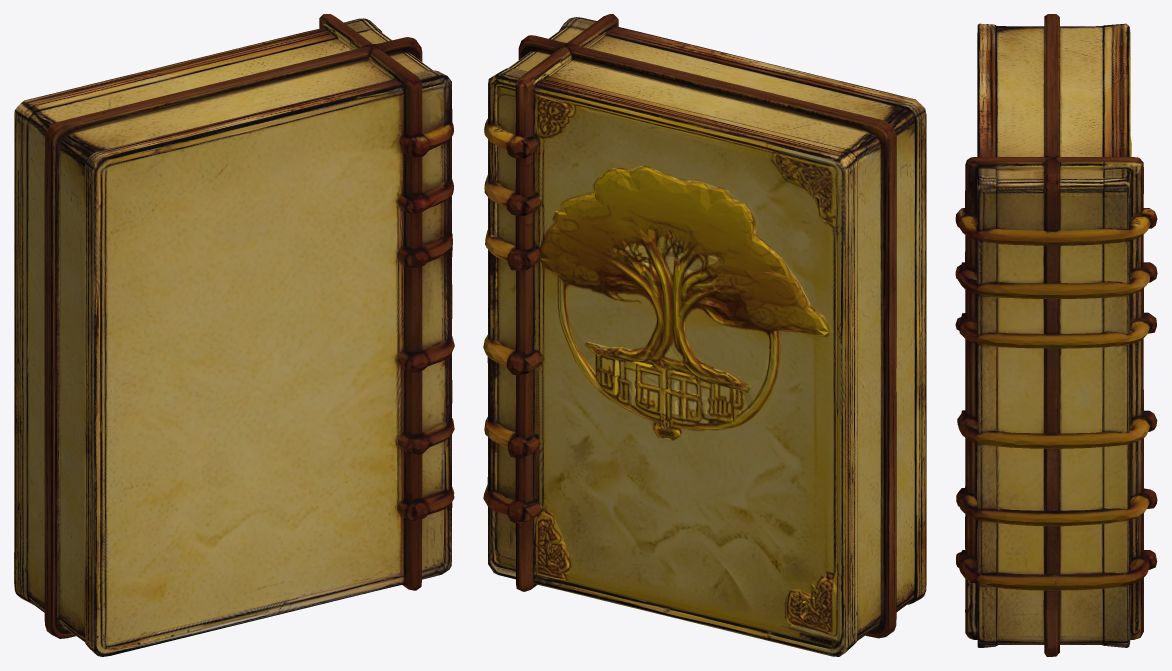
File: Book.glb
3 renders of one model, left to right at view 1: azimuth 30°, elevation 25°; view 2: azimuth 150°, elevation 25°; view 3: azimuth 270°, elevation 25°, orthographic. The views are drawn at different scales.
Visible parts, largest first — view 1: tripo_node_35b5f2df-c4a9-419d-8ede-dd301ddd92d1; view 2: tripo_node_35b5f2df-c4a9-419d-8ede-dd301ddd92d1; view 3: tripo_node_35b5f2df-c4a9-419d-8ede-dd301ddd92d1.
Part boxes in pixels (bbox=[...]): tripo_node_35b5f2df-c4a9-419d-8ede-dd301ddd92d1: bbox=[14, 14, 454, 656]; tripo_node_35b5f2df-c4a9-419d-8ede-dd301ddd92d1: bbox=[483, 14, 926, 656]; tripo_node_35b5f2df-c4a9-419d-8ede-dd301ddd92d1: bbox=[955, 14, 1157, 656].
Size of the model in its own units: 0.7734 by 1 by 0.3787.
Materials: 1 (1 with a texture image).
